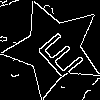E: (28, 23, 85, 80)
